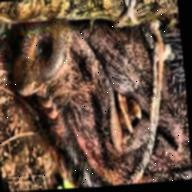boar: (8, 0, 192, 191)
